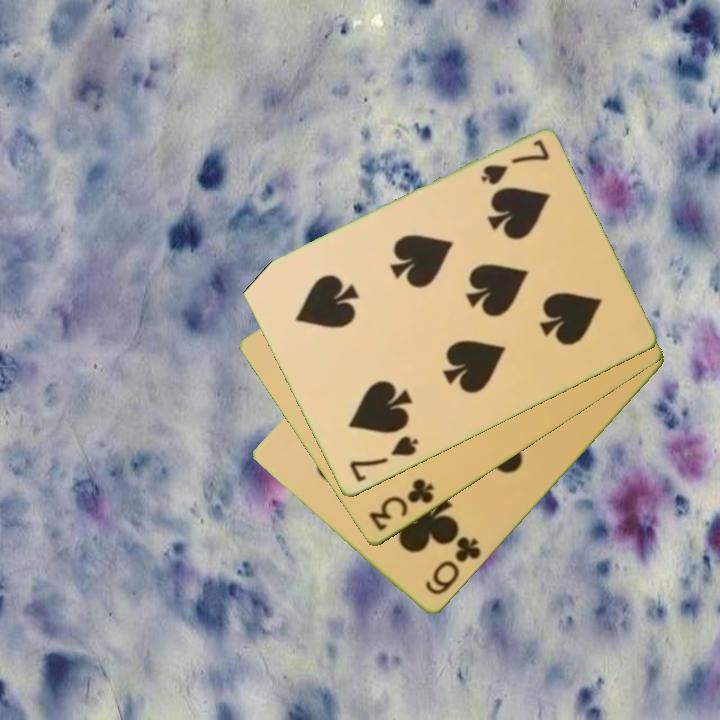3c: (365, 475, 437, 535)
6c: (421, 533, 484, 599)
7s: (345, 432, 422, 486), (477, 136, 553, 189)
